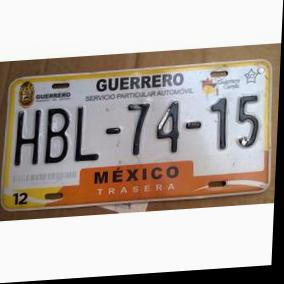License_Plate: (0, 55, 275, 211)
